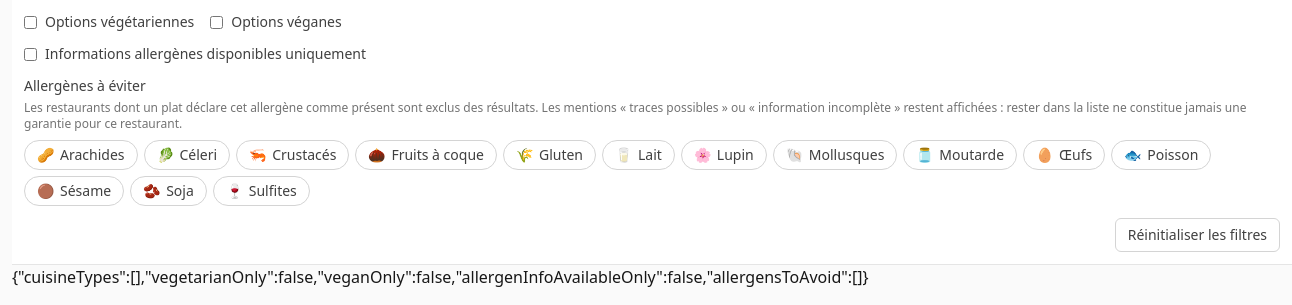
Test: SearchFilterBar › toggles the vegetarian filter
Click the checkbox labelled "Options végétariennes": (30, 22) [24,16,37,28]
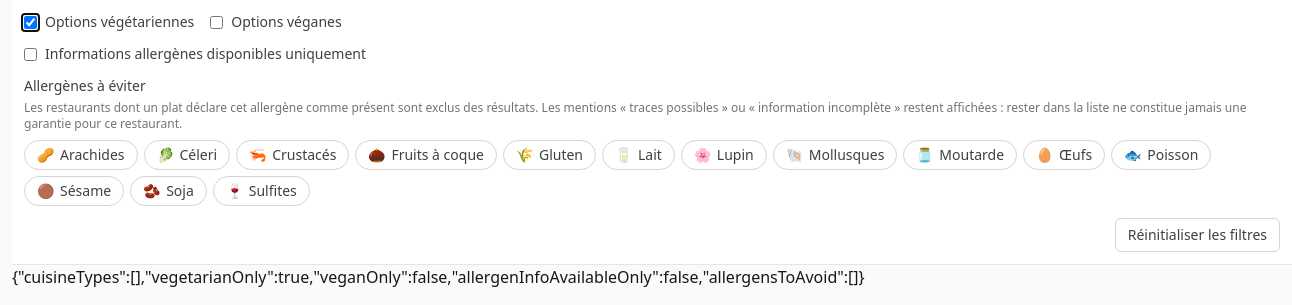
Result: the text with test id "state" shows "\"vegetarianOnly\":true" at [12,266,865,288]
